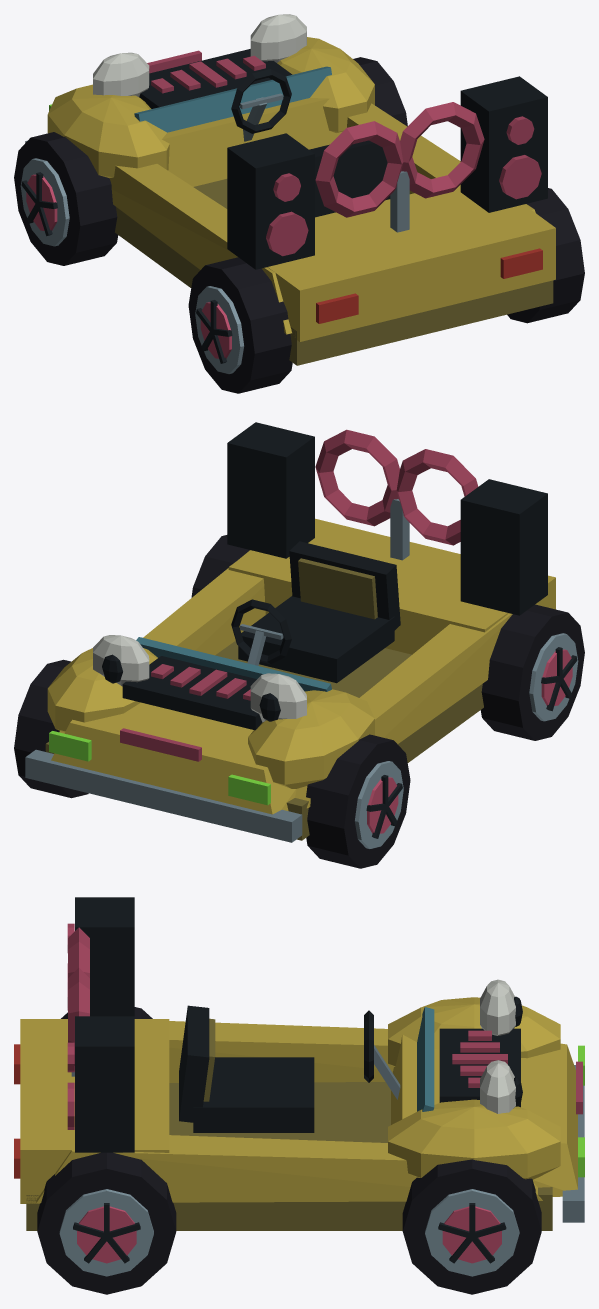
File: kart.glb
The picture shows the model from 3 angles, top to bottom: view 1: azimuth 30°, elevation 25°; view 2: azimuth 150°, elevation 25°; view 3: azimuth 270°, elevation 25°; orthographic projection. The views are drawn at different scales.
Visible parts, largest first — view 1: identity-toy-car-toy-rounded-body-and-wind-up-key, identity-toy-car-motif-speakers, wheel-rear-left, wheel-front-left, identity-toy-car-driver-cockpit, identity-toy-car-motif-eyes, identity-toy-car-motif-equalizer, wheel-rear-right, wheel-front-right; view 2: identity-toy-car-toy-rounded-body-and-wind-up-key, identity-toy-car-motif-speakers, identity-toy-car-driver-cockpit, wheel-rear-left, wheel-front-left, identity-toy-car-motif-equalizer, identity-toy-car-motif-eyes, wheel-front-right, wheel-rear-right; view 3: identity-toy-car-toy-rounded-body-and-wind-up-key, wheel-rear-right, wheel-front-right, identity-toy-car-motif-speakers, identity-toy-car-driver-cockpit, identity-toy-car-motif-equalizer, identity-toy-car-motif-eyes.
Part boxes in pixels (left/top/right/bottom): identity-toy-car-toy-rounded-body-and-wind-up-key: left=25, top=37, right=555, bottom=365; identity-toy-car-motif-speakers: left=227, top=76, right=547, bottom=269; wheel-rear-left: left=188, top=257, right=292, bottom=393; wheel-front-left: left=14, top=132, right=118, bottom=265; identity-toy-car-driver-cockpit: left=231, top=69, right=390, bottom=217; identity-toy-car-motif-eyes: left=93, top=14, right=306, bottom=96; identity-toy-car-motif-equalizer: left=139, top=49, right=292, bottom=108; wheel-rear-right: left=507, top=188, right=584, bottom=323; wheel-front-right: left=353, top=57, right=407, bottom=126; identity-toy-car-toy-rounded-body-and-wind-up-key: left=25, top=429, right=555, bottom=842; identity-toy-car-motif-speakers: left=227, top=422, right=547, bottom=615; identity-toy-car-driver-cockpit: left=231, top=541, right=400, bottom=683; wheel-rear-left: left=480, top=604, right=584, bottom=740; wheel-front-left: left=306, top=734, right=410, bottom=868; identity-toy-car-motif-equalizer: left=122, top=656, right=262, bottom=730; identity-toy-car-motif-eyes: left=93, top=635, right=306, bottom=722; wheel-front-right: left=14, top=659, right=88, bottom=798; wheel-rear-right: left=191, top=535, right=249, bottom=597; identity-toy-car-toy-rounded-body-and-wind-up-key: left=14, top=927, right=584, bottom=1230; wheel-rear-right: left=37, top=1152, right=176, bottom=1294; wheel-front-right: left=402, top=1159, right=541, bottom=1294; identity-toy-car-motif-speakers: left=67, top=897, right=134, bottom=1152; identity-toy-car-driver-cockpit: left=179, top=1005, right=400, bottom=1132; identity-toy-car-motif-equalizer: left=439, top=1028, right=520, bottom=1107; identity-toy-car-motif-eyes: left=480, top=979, right=522, bottom=1113.
Size of the model in its own units: 2.13 by 1.42 by 2.88.
